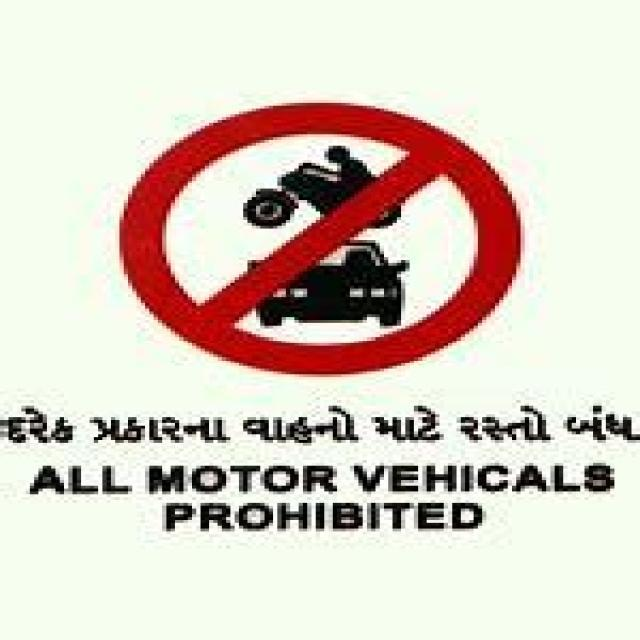all motor vehicle prohibited: (104, 92, 533, 382)
